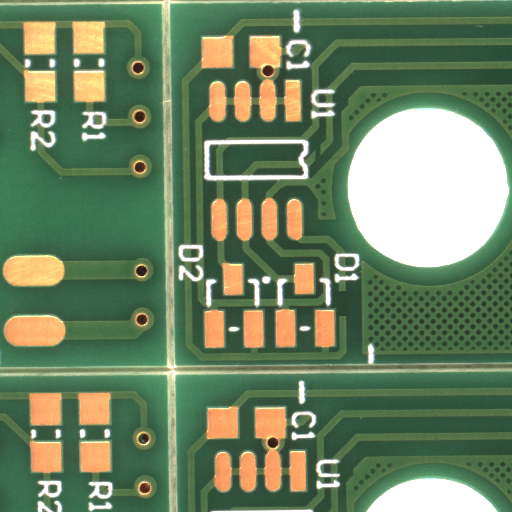Open_circuit: (341, 303, 351, 330), (317, 154, 326, 175)
